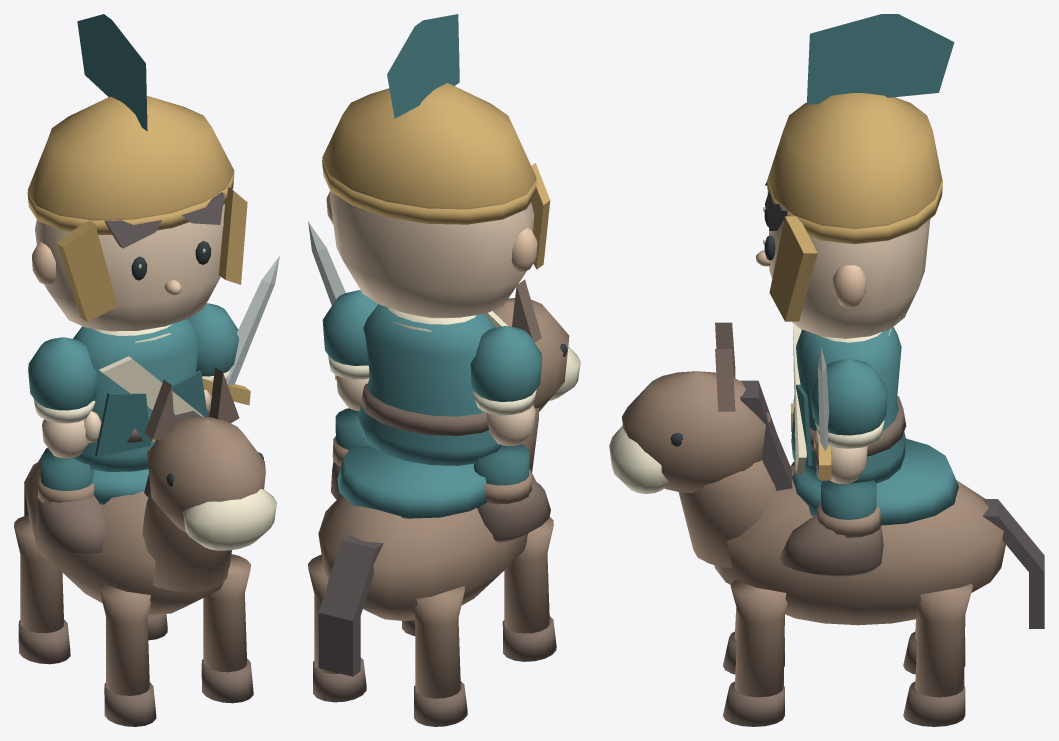
The model's file is rider.glb.
3 views of the same model, side by side, from view 1: azimuth 30°, elevation 25°; view 2: azimuth 150°, elevation 25°; view 3: azimuth 270°, elevation 25° (orthographic). The views are drawn at different scales.
Visible parts, largest first — view 1: Regional helmet, Soft cheek head, Pony head, Plump pony body, Short folded tunic, Pony neck, Greek crest, Pony stubby leg, Pony stubby leg.001, Puff sleeve, Pony muzzle, Pony stubby leg.002 (+24 smaller); view 2: Regional helmet, Soft cheek head, Short folded tunic, Plump pony body, Saddle blanket, Pony tail, Greek crest, Pony stubby leg.002, Puff sleeve, Pony stubby leg, Helmet brow band, Puff sleeve.001 (+20 smaller); view 3: Plump pony body, Regional helmet, Pony head, Greek crest, Soft cheek head, Short folded tunic, Pony neck, Saddle blanket, Pony stubby leg.001, Pony stubby leg.003, Round leather boot.001, Puff sleeve.001 (+17 smaller).
Boxes of the visible parts, <box> form: Regional helmet: <box>27,95,234,220</box>; Soft cheek head: <box>35,204,224,331</box>; Pony head: <box>147,416,265,532</box>; Plump pony body: <box>24,460,231,615</box>; Short folded tunic: <box>72,319,200,471</box>; Pony neck: <box>142,491,231,592</box>; Greek crest: <box>77,14,147,131</box>; Pony stubby leg: <box>99,584,150,695</box>; Pony stubby leg.001: <box>203,554,250,672</box>; Puff sleeve: <box>28,337,97,410</box>; Pony muzzle: <box>183,489,276,550</box>; Pony stubby leg.002: <box>14,515,63,633</box>; Regional helmet: <box>322,83,536,209</box>; Soft cheek head: <box>329,191,534,318</box>; Short folded tunic: <box>358,304,501,465</box>; Plump pony body: <box>318,472,536,621</box>; Saddle blanket: <box>337,445,486,518</box>; Pony tail: <box>318,535,383,676</box>; Greek crest: <box>387,14,459,118</box>; Pony stubby leg.002: <box>413,586,464,698</box>; Puff sleeve: <box>470,326,542,401</box>; Pony stubby leg: <box>504,517,553,633</box>; Helmet brow band: <box>322,160,536,224</box>; Puff sleeve.001: <box>322,290,378,365</box>; Plump pony body: <box>714,465,1005,625</box>; Regional helmet: <box>768,93,941,228</box>; Pony head: <box>622,371,770,492</box>; Greek crest: <box>806,14,954,104</box>; Soft cheek head: <box>769,219,930,338</box>; Short folded tunic: <box>791,327,906,483</box>; Pony neck: <box>678,459,776,568</box>; Saddle blanket: <box>792,438,958,525</box>; Pony stubby leg.001: <box>730,580,787,697</box>; Pony stubby leg.003: <box>915,583,972,697</box>; Round leather boot.001: <box>779,514,883,576</box>; Puff sleeve.001: <box>810,358,887,435</box>.
Size of the model in its own units: 0.9142 by 2.39 by 1.4.
